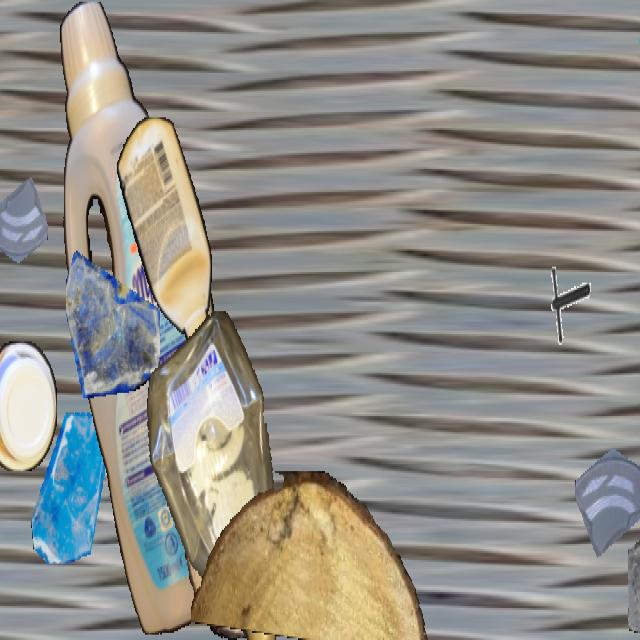glass: (66, 231, 160, 398), (29, 412, 113, 562), (575, 416, 640, 572), (0, 166, 47, 286), (628, 482, 640, 638), (638, 2, 640, 105)
metal: (181, 267, 243, 377), (542, 261, 590, 347)
plastic: (58, 2, 262, 634), (142, 311, 288, 638), (117, 117, 211, 345), (0, 342, 57, 469)
wood: (191, 471, 431, 638), (183, 450, 259, 638)
